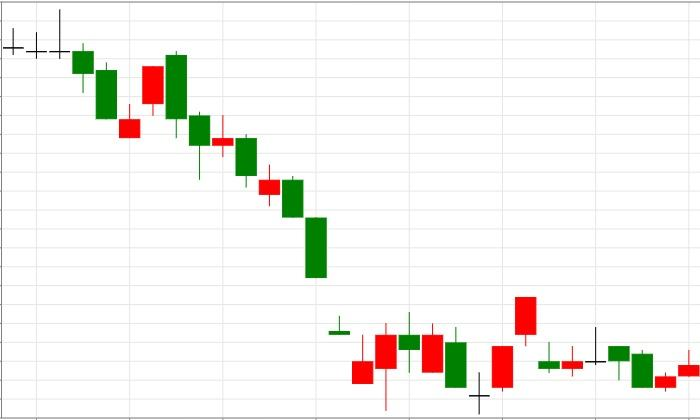morning_star_rise: (399, 312, 512, 415)
